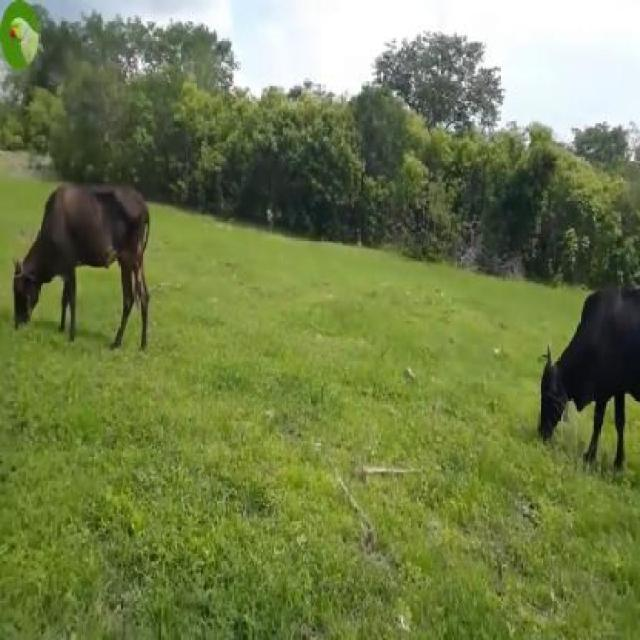Cow: (12, 188, 150, 346), (538, 286, 638, 471)
